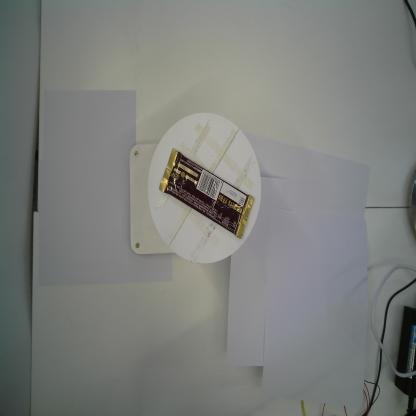Chocolate: (158, 145, 254, 241)
